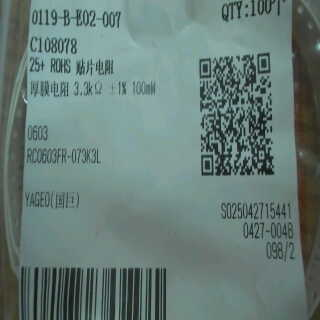3.3kO: (70, 77, 103, 98)
